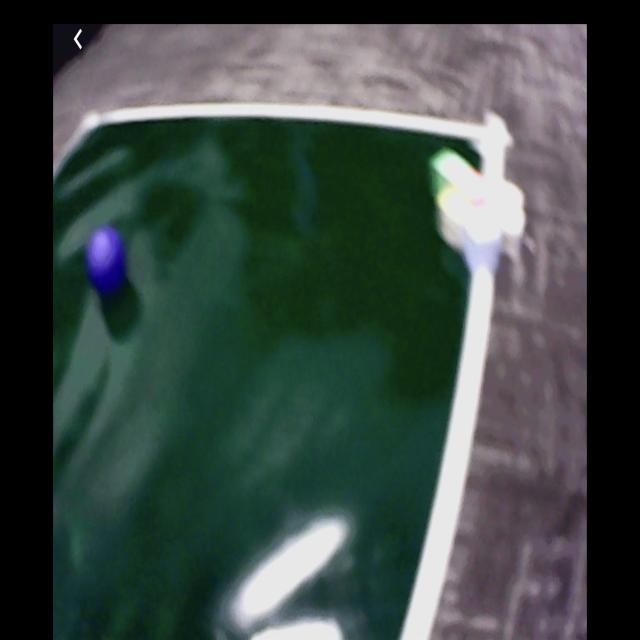ball: (88, 230, 128, 294)
